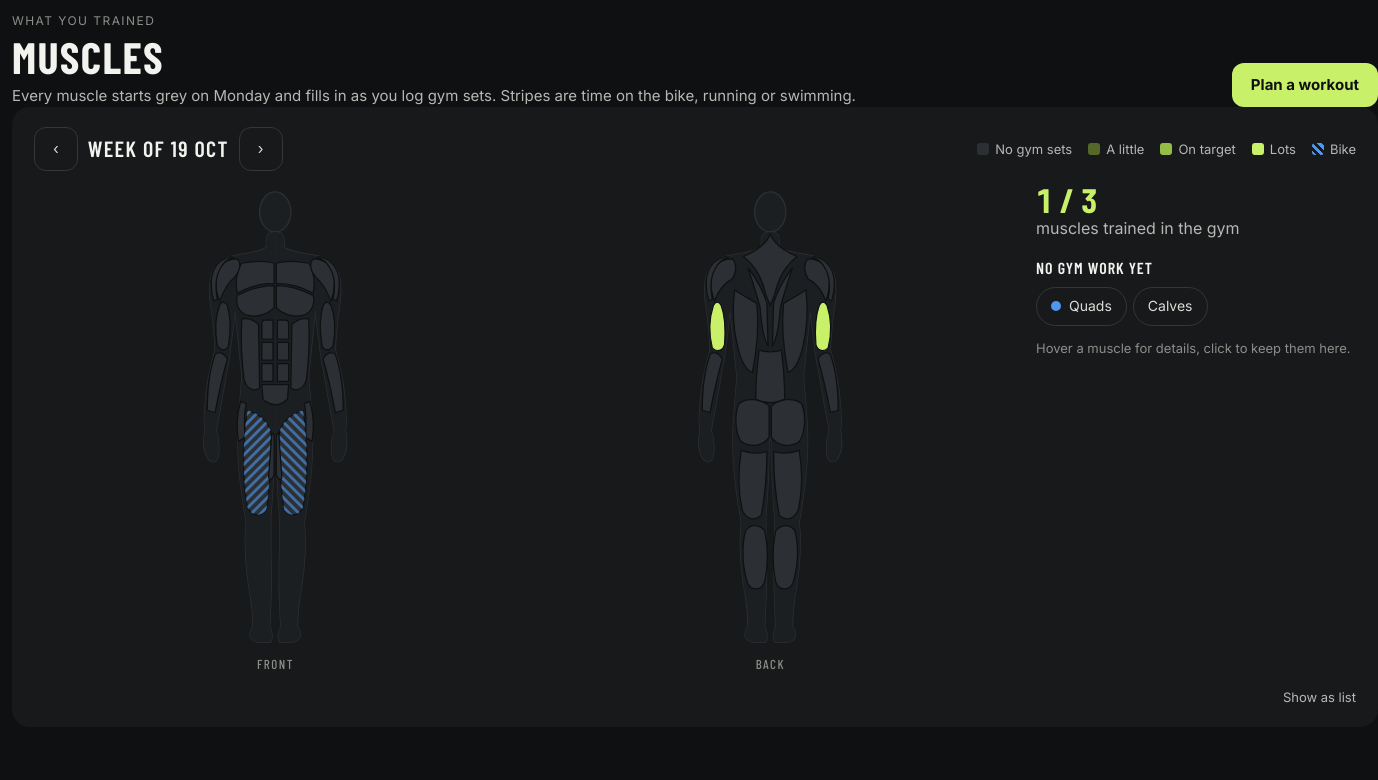
Test: Muscles page › keeps the 'no gym work yet' chips while hovering and lets you pin from them
This screenshot has width=1378, height=780.
Check: the heading "Week of 19 Oct" is shown, box top-left (88, 133), bottom-right (229, 165)
Hover over the button "Calves" at (1170, 306), box top-left (1133, 287), bottom-right (1208, 326)
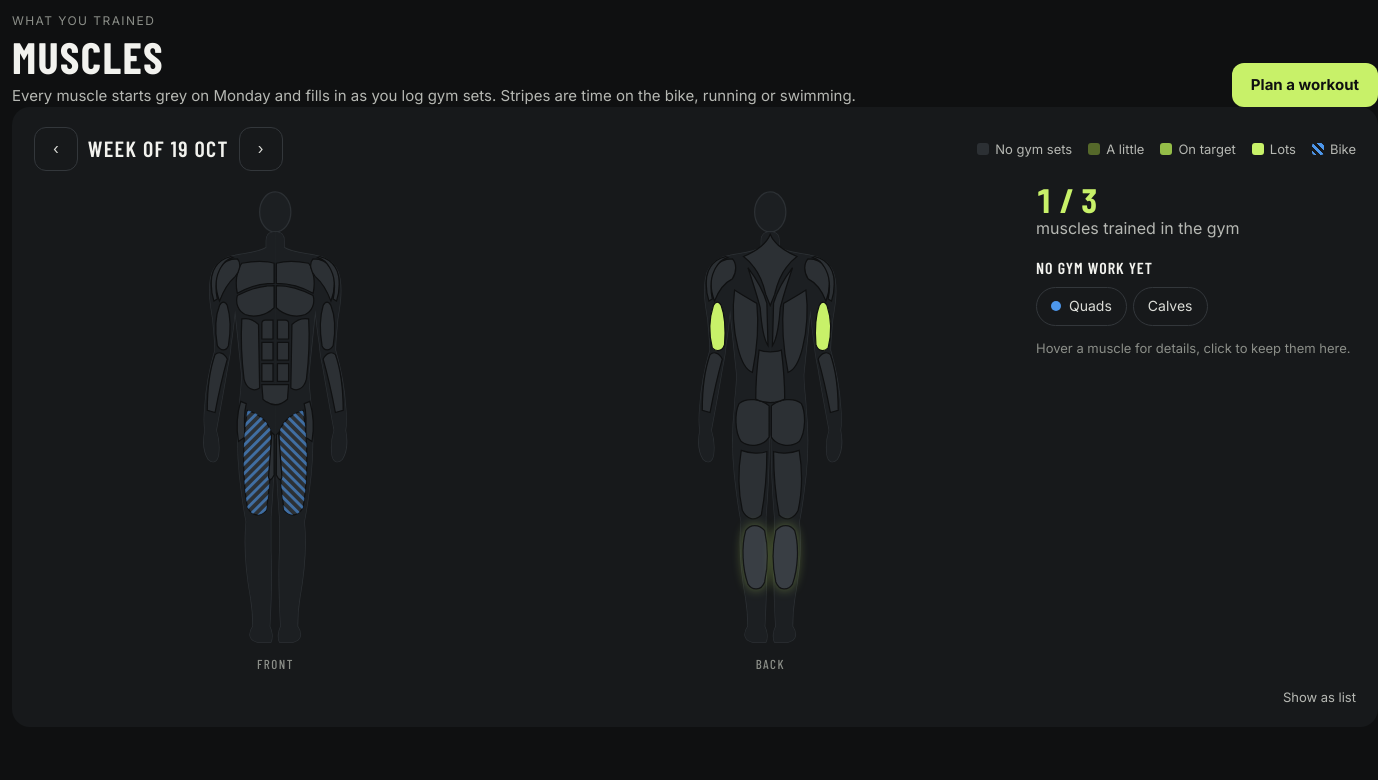
Check: the button "Quads" is shown, box top-left (1036, 287), bottom-right (1127, 326)
Click the button "Calves". click: click(1170, 306)
box: top-left (1133, 287), bottom-right (1208, 326)
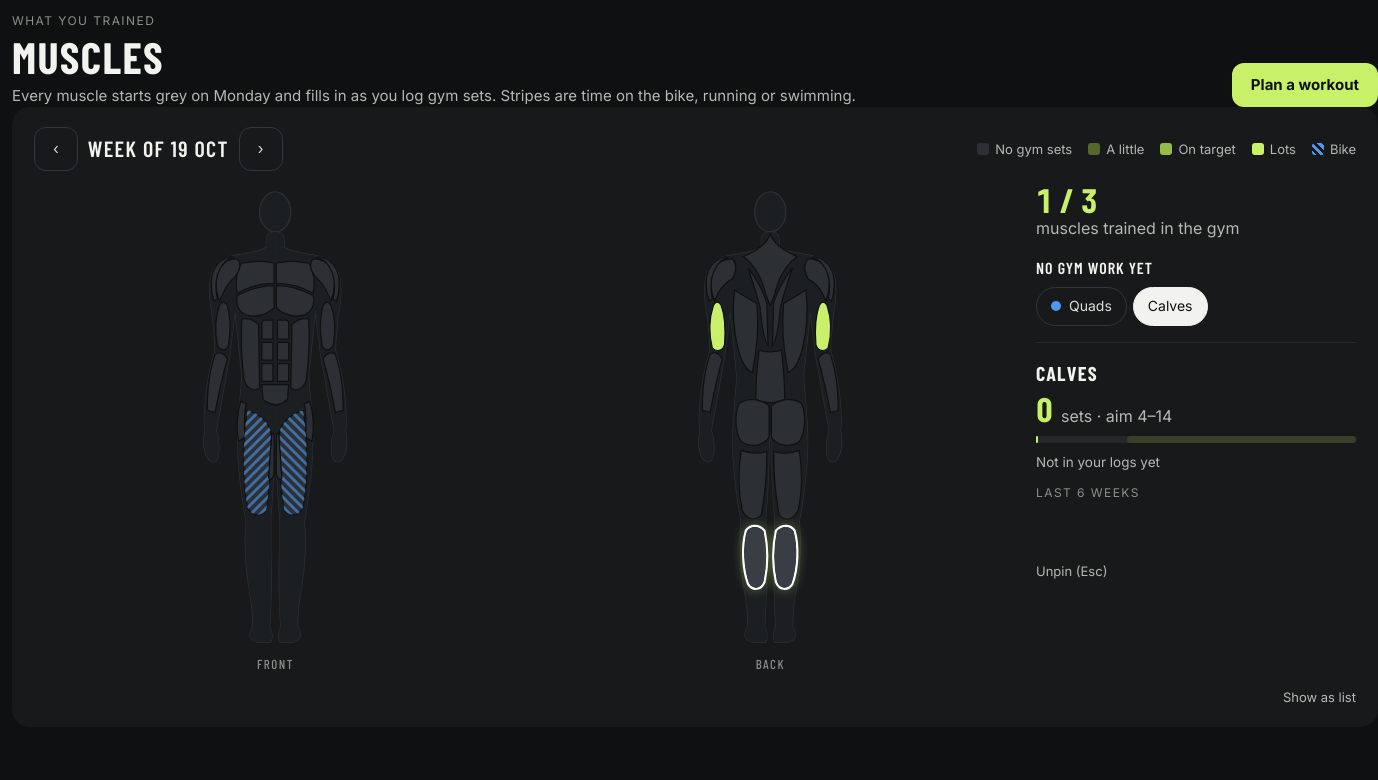
Check: the button "Quads" is shown, box top-left (1036, 287), bottom-right (1127, 326)
Check: the heading "Calves" is shown, box top-left (1036, 361), bottom-right (1098, 385)
